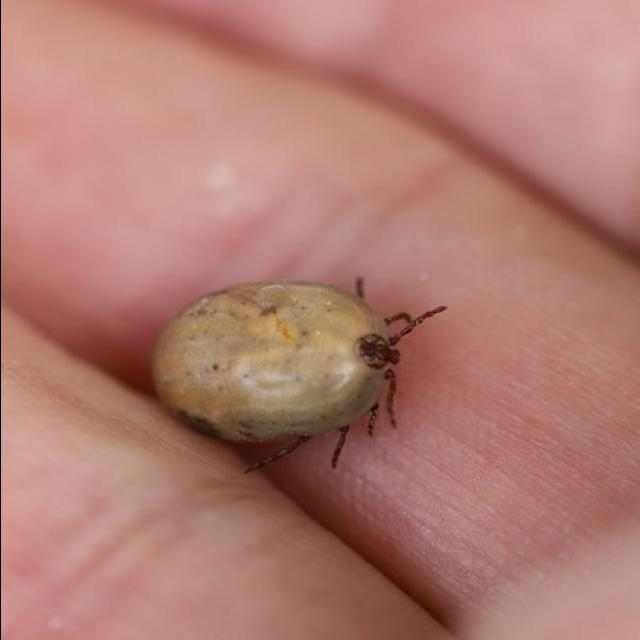Dermacentor Reticulatus-F-Fed: (149, 278, 445, 476)
